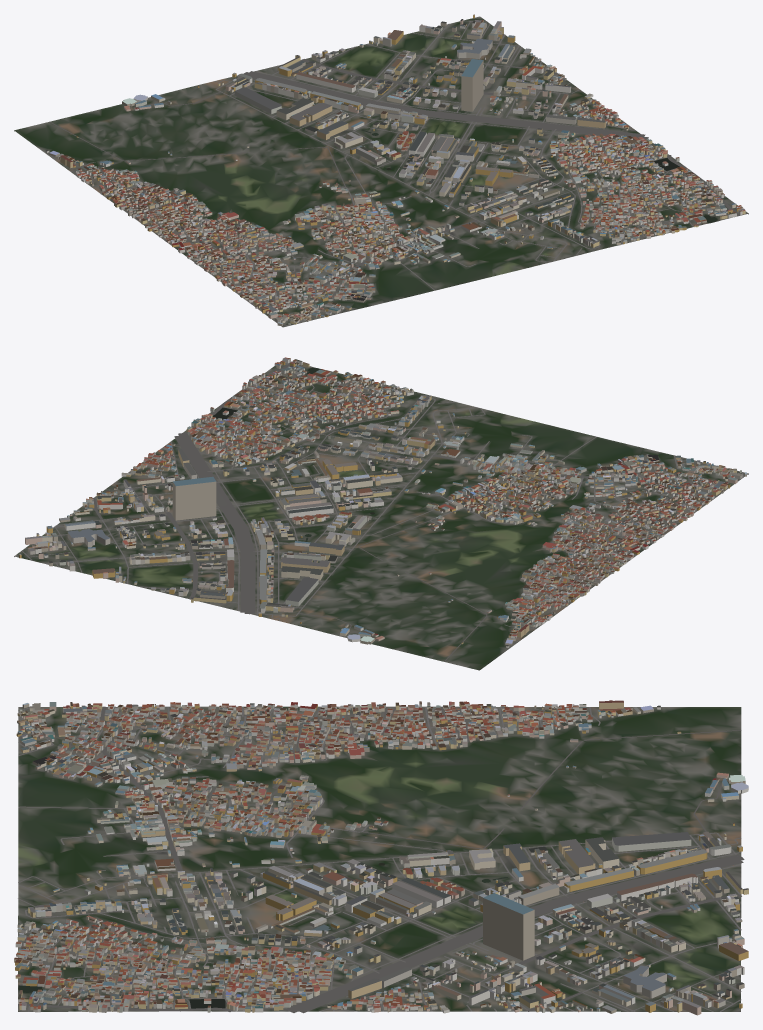
3 views of the same model, one above another, from view 1: azimuth 30°, elevation 25°; view 2: azimuth 150°, elevation 25°; view 3: azimuth 270°, elevation 25° (orthographic). The views are drawn at different scales.
Parts seen in each view (by area): view 1: ground, buildings, roads; view 2: ground, buildings, roads; view 3: ground, buildings, roads, water.
Boxes of the visible parts, x1,y1,x2,y2 form: ground: [14, 16, 748, 327]; buildings: [45, 14, 745, 325]; roads: [49, 20, 740, 325]; ground: [14, 360, 748, 670]; buildings: [19, 357, 746, 647]; roads: [21, 361, 743, 661]; ground: [18, 706, 741, 1011]; buildings: [14, 700, 748, 1015]; roads: [18, 706, 744, 1013]; water: [18, 863, 507, 1008].
Size of the model in its own units: 1424 by 104 by 1425.
